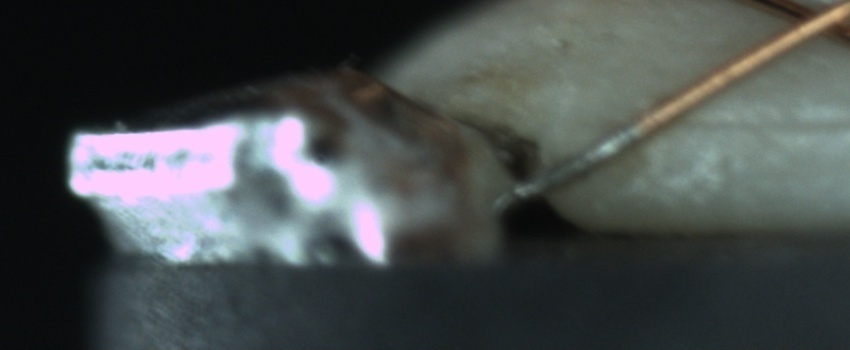CL: (766, 1, 848, 49)
DL: (679, 92, 850, 156)
TS: (517, 120, 644, 206)
